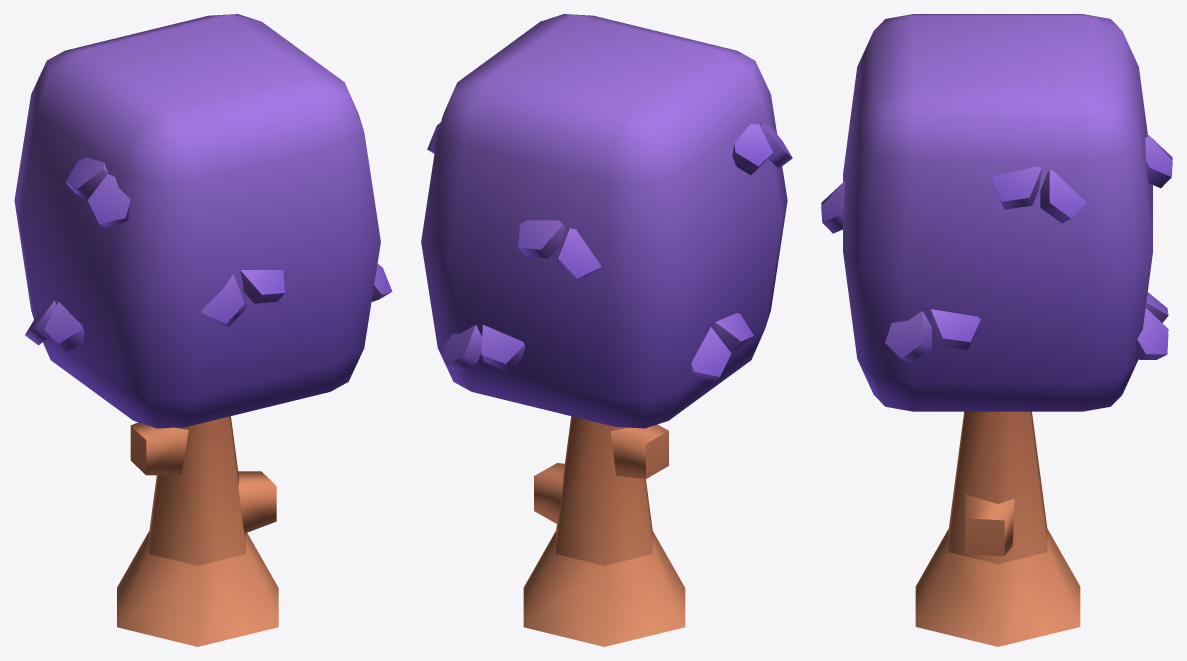
The model's file is pfa_tree.glb.
3 renders of one model, left to right at view 1: azimuth 30°, elevation 25°; view 2: azimuth 150°, elevation 25°; view 3: azimuth 270°, elevation 25°, orthographic.
Parts seen in each view (by area): view 1: tree; view 2: tree; view 3: tree.
Boxes of the visible parts, x1,y1,x2,y2 form: tree: (14, 14, 392, 646); tree: (421, 14, 792, 646); tree: (821, 14, 1172, 646).
Bounding box in the file's own units: 1.09 × 1.93 × 1.11.
Materials: 1 (1 with a texture image).
